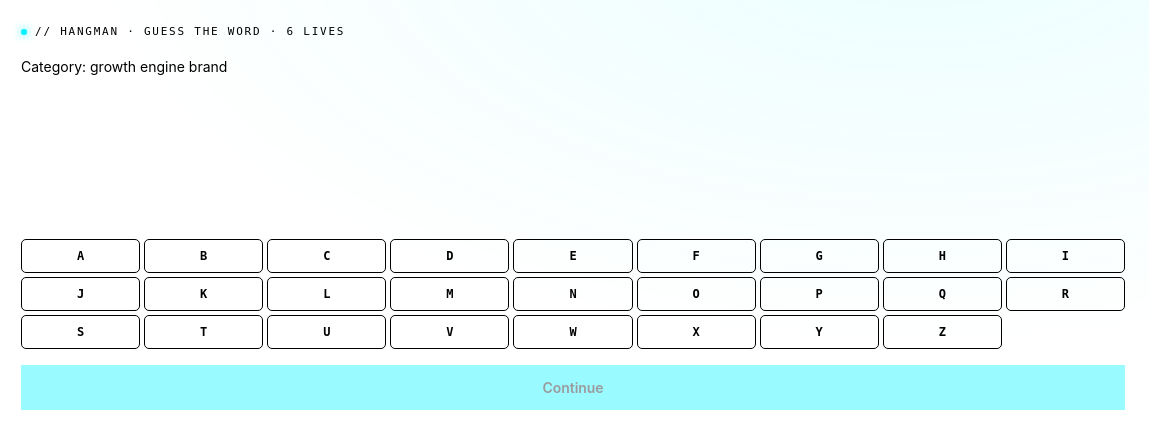
Test: HangmanExperience › correct guess reveals the letter in the word display
The width and height of the screenshot is (1149, 427).
Click the button "G" at (819,256), box [760,238,879,272]
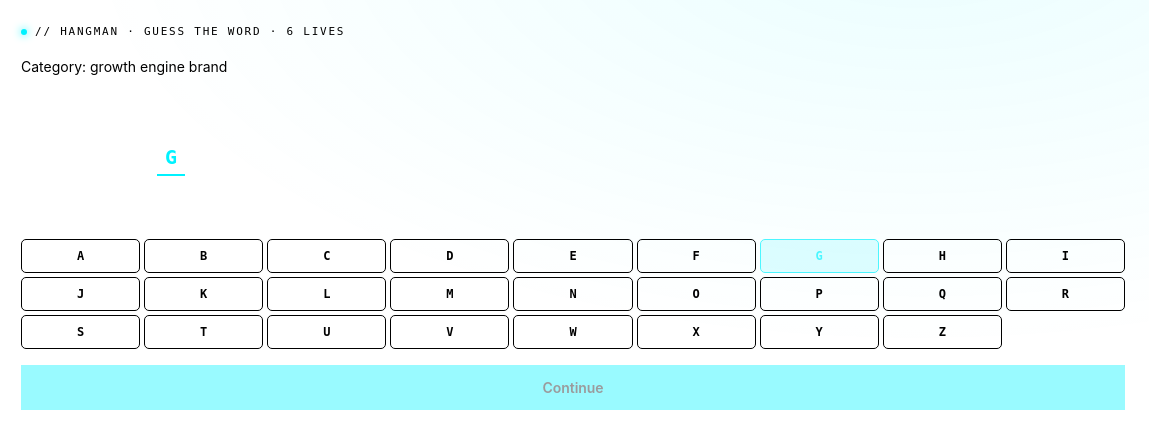
Expected: the button "G" is disabled, [760,238,879,272]
